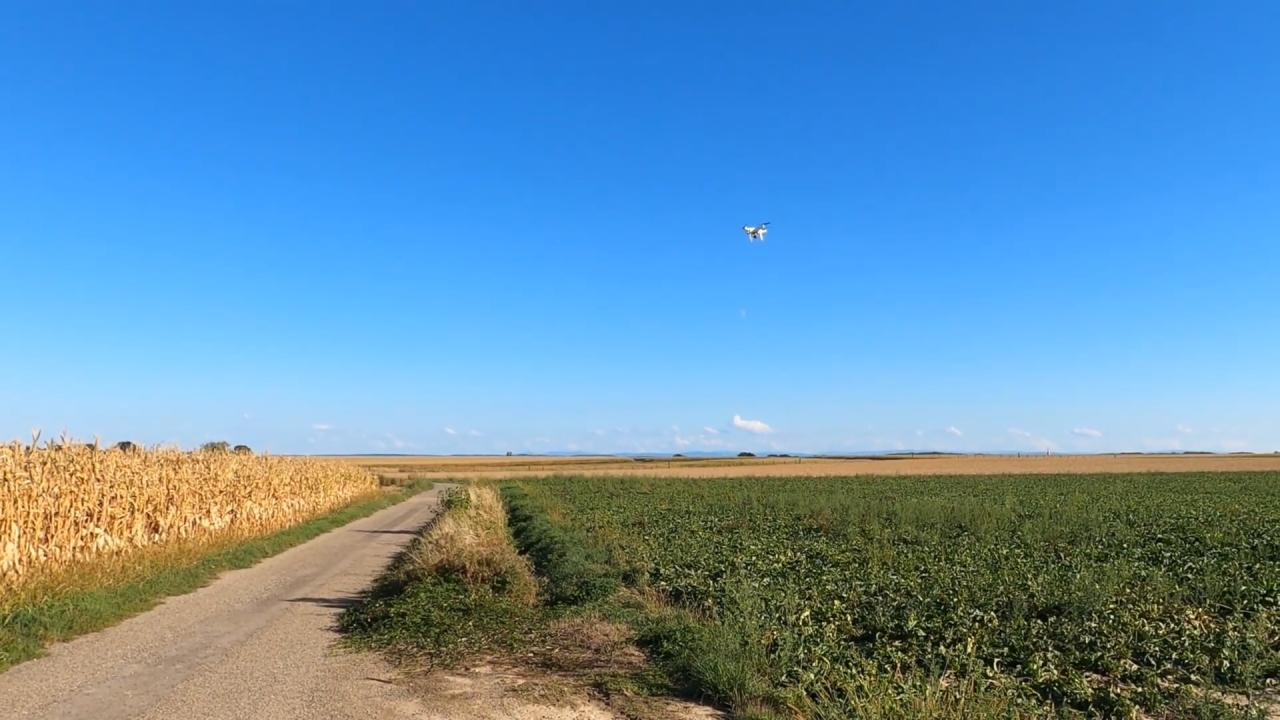Drone: (734, 212, 781, 251)
